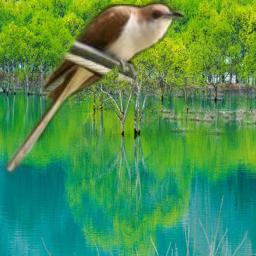Cuckoo: (4, 0, 186, 174)
